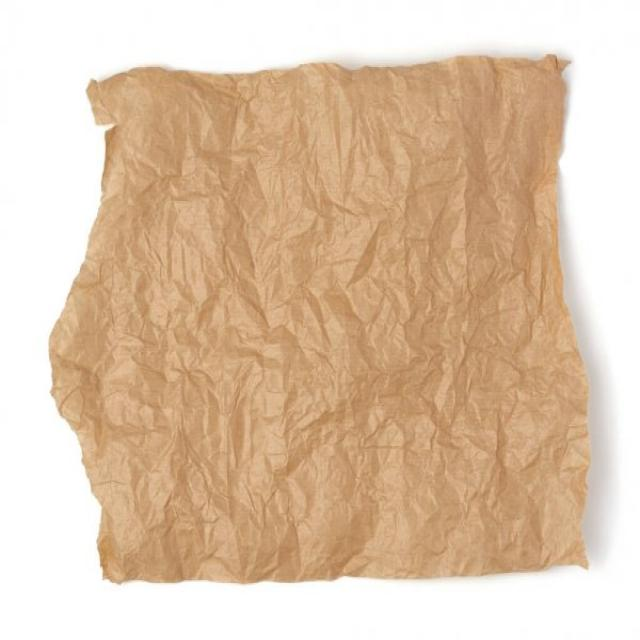paper: (41, 28, 615, 606)
